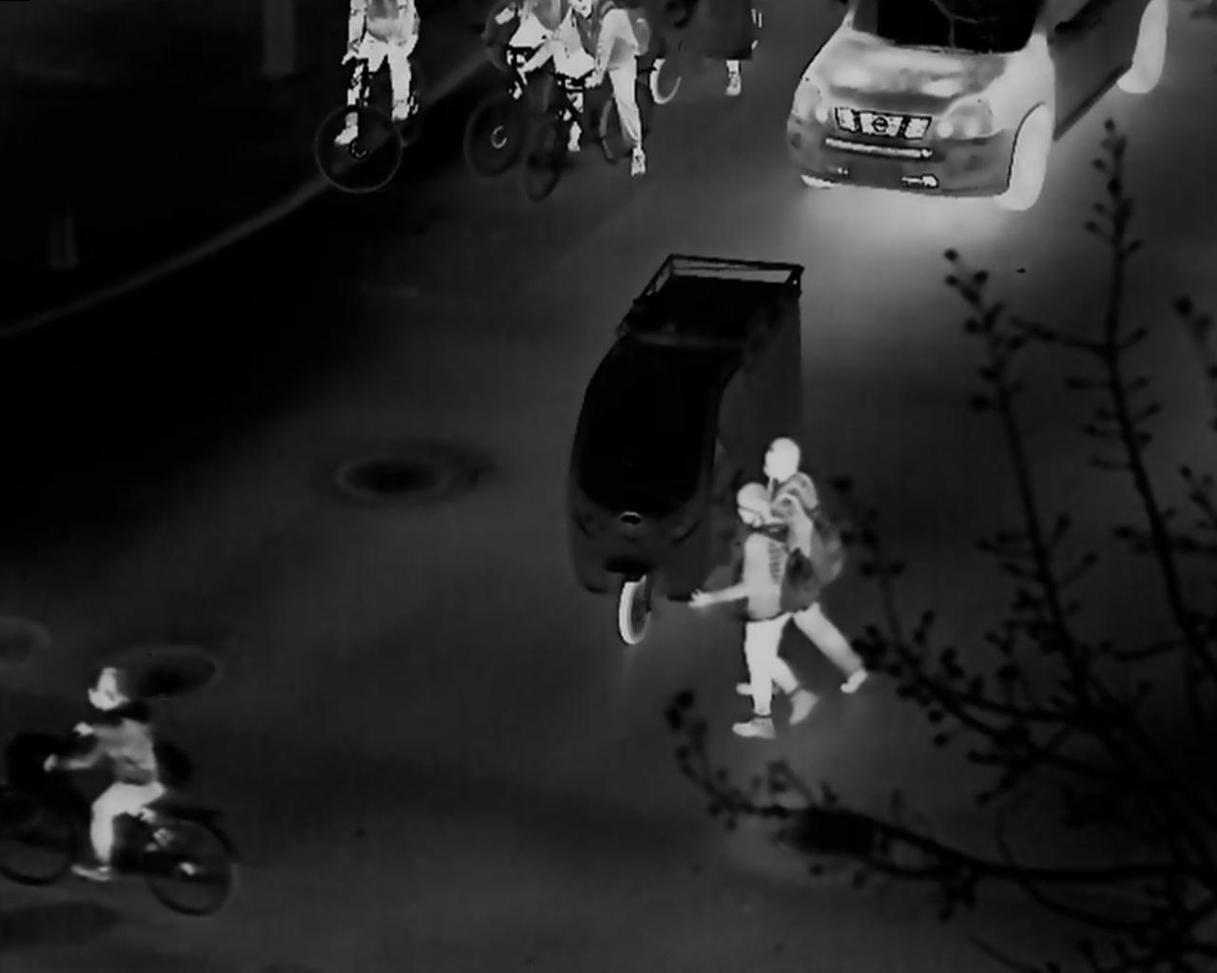person: (681, 480, 825, 745), (762, 431, 872, 700), (43, 666, 169, 888), (520, 5, 652, 176)
